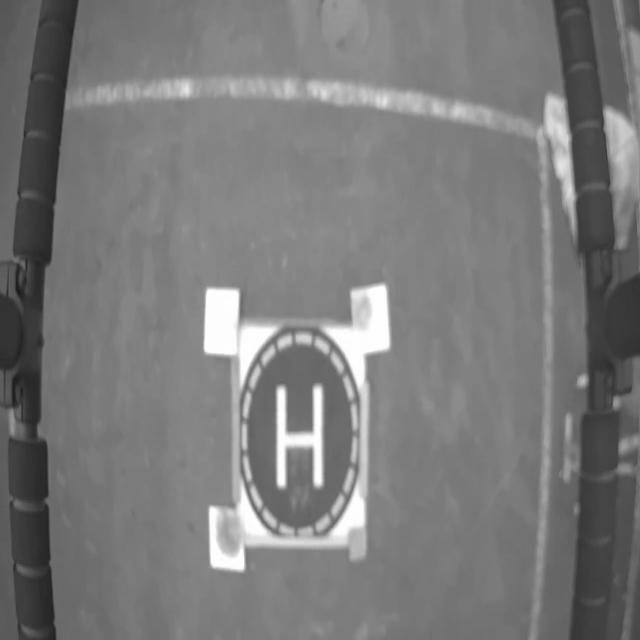Helipad: (276, 386, 323, 489)
